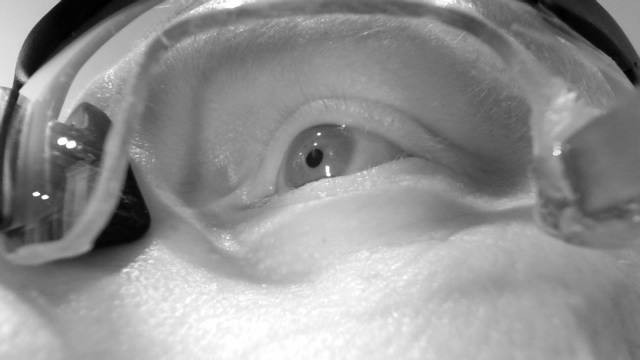pupil: (305, 148, 325, 169)
